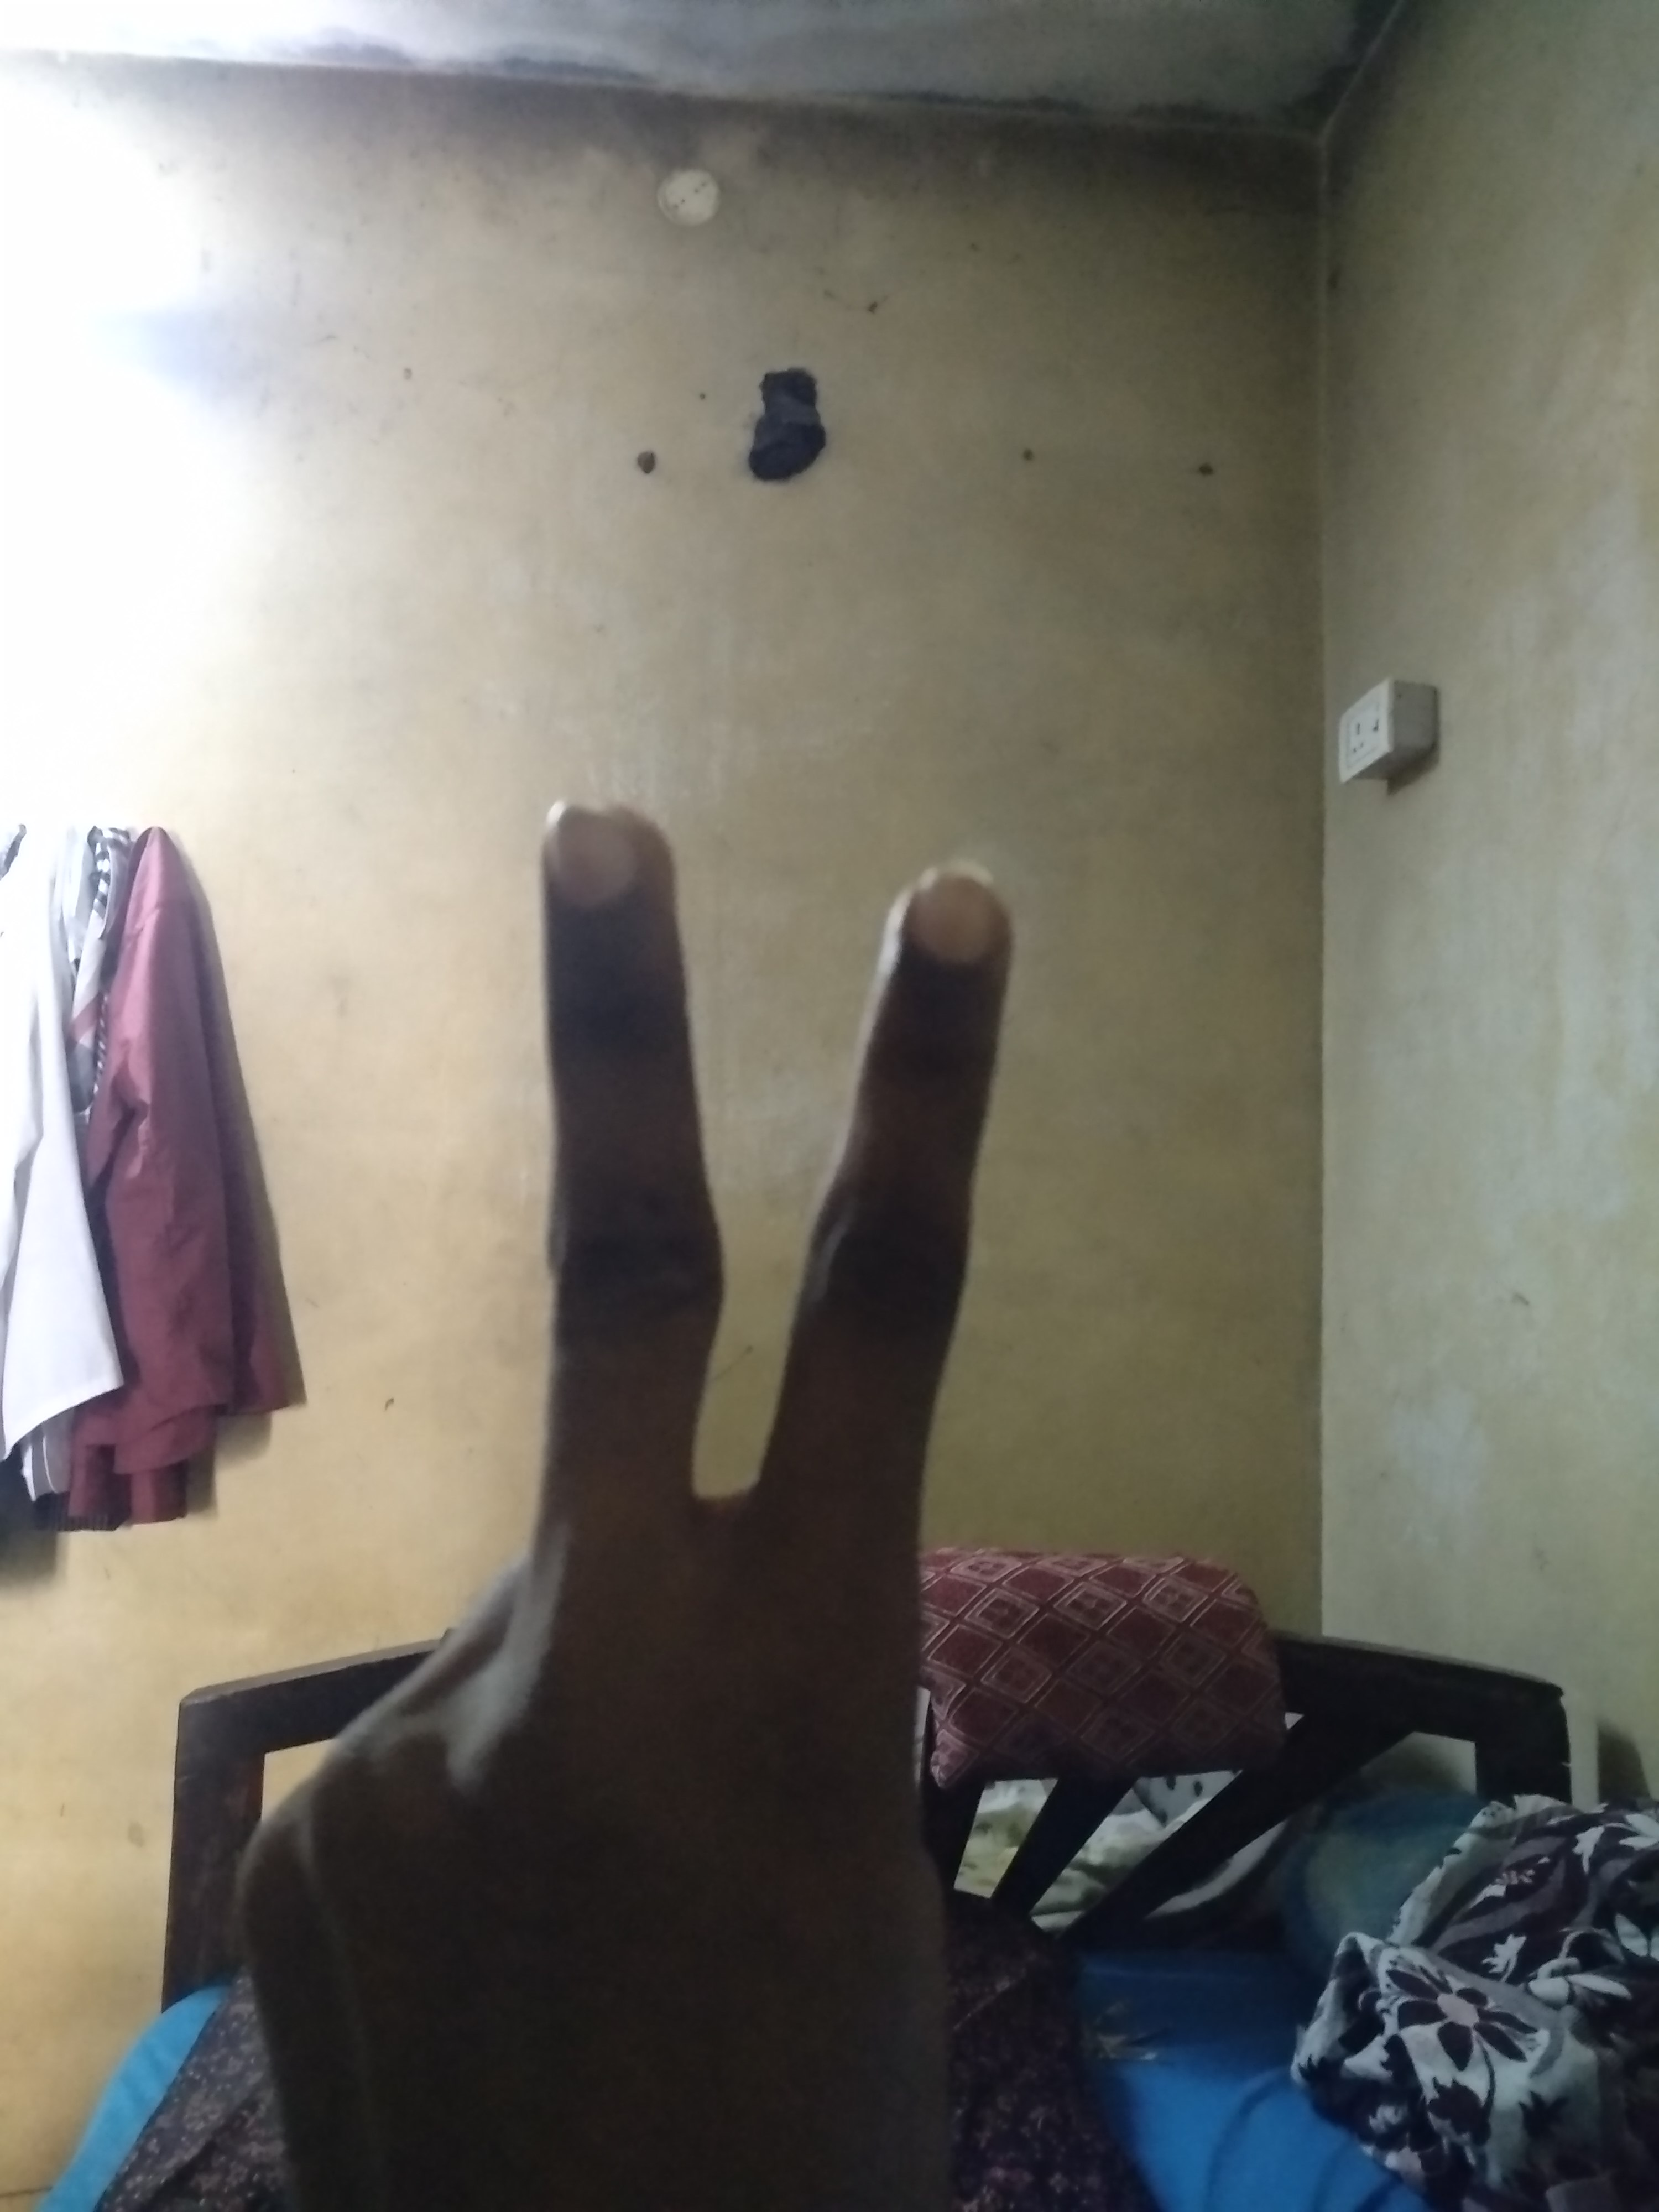two: (462, 780, 566, 852)
